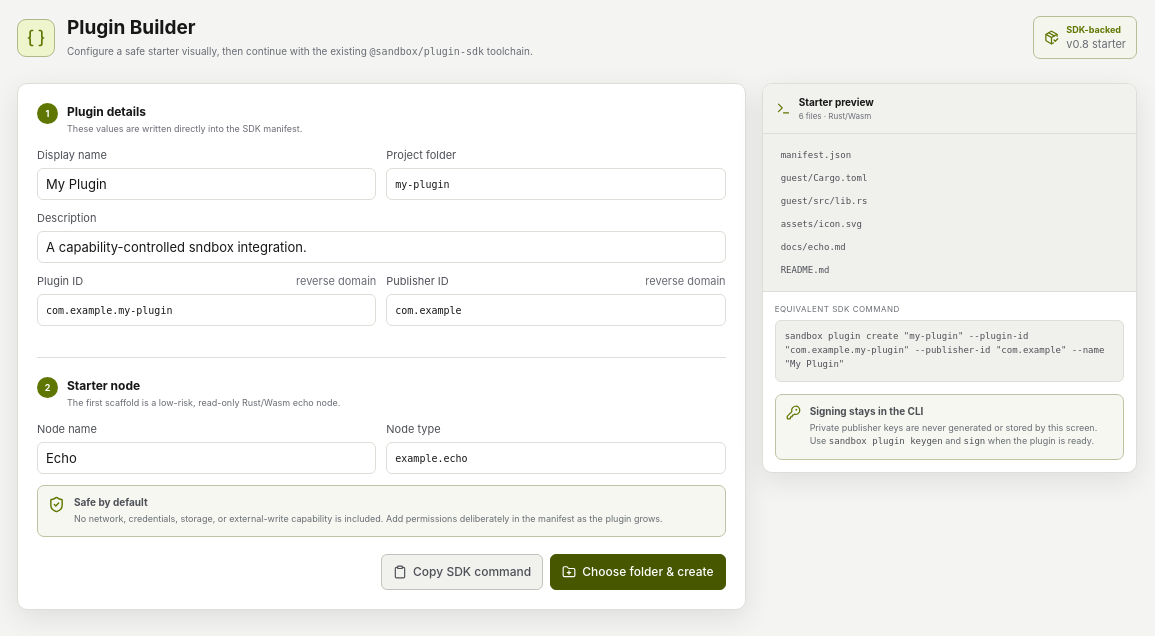
Test: PluginBuilderView › does not create an invalid reverse-domain manifest
This screenshot has width=1155, height=636.
Replace the text in the field labelled "Plugin ID reverse domain" with "INVALID": (207, 310) left=37, top=294, right=376, bottom=326
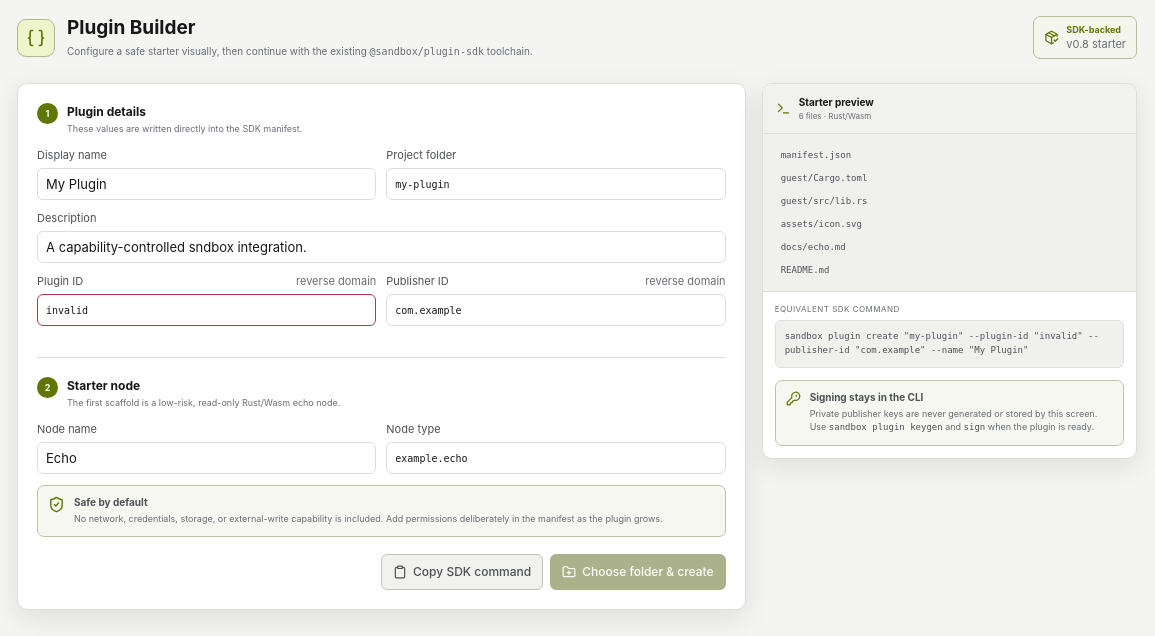
Expected: the button "Choose folder & create" is disabled, left=550, top=554, right=726, bottom=590
